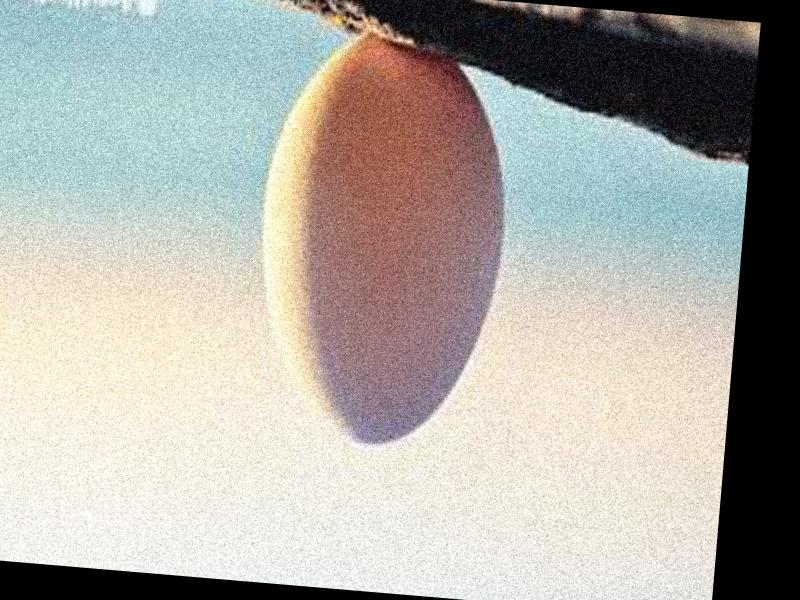Eggs: (243, 31, 519, 457)
